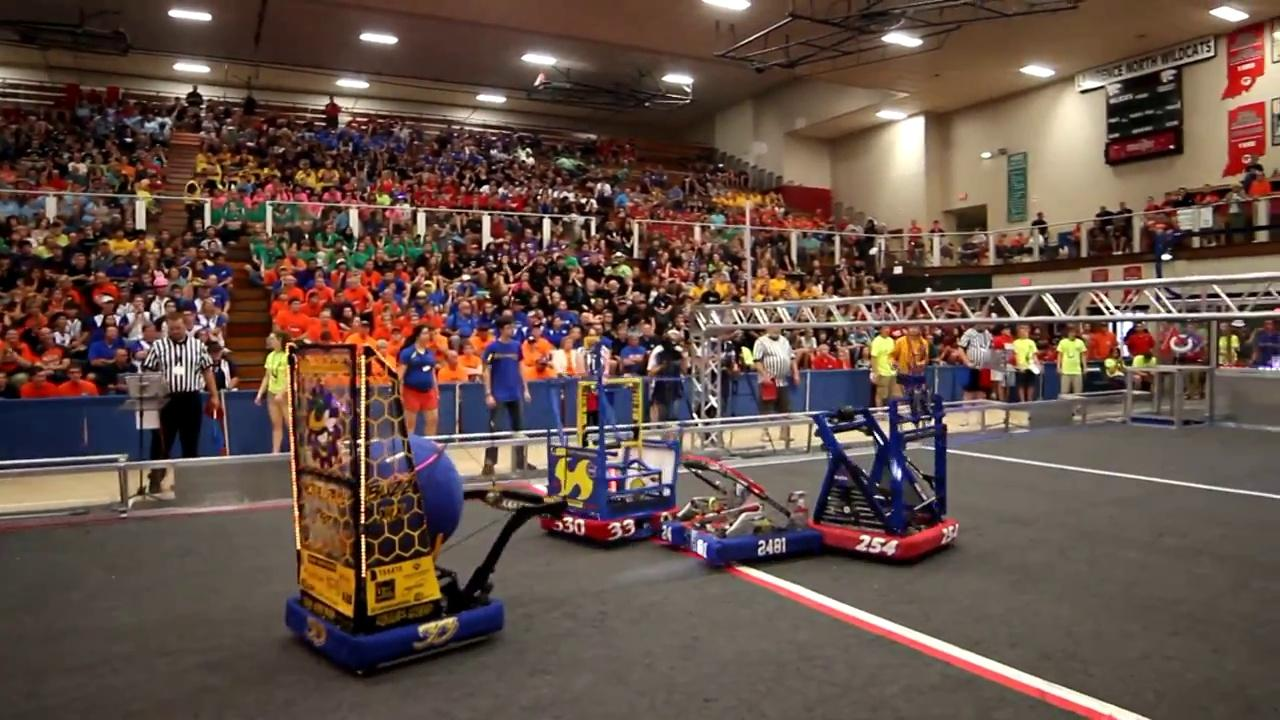robot: (274, 340, 543, 686), (802, 370, 962, 568), (533, 374, 686, 555), (656, 452, 829, 571)
